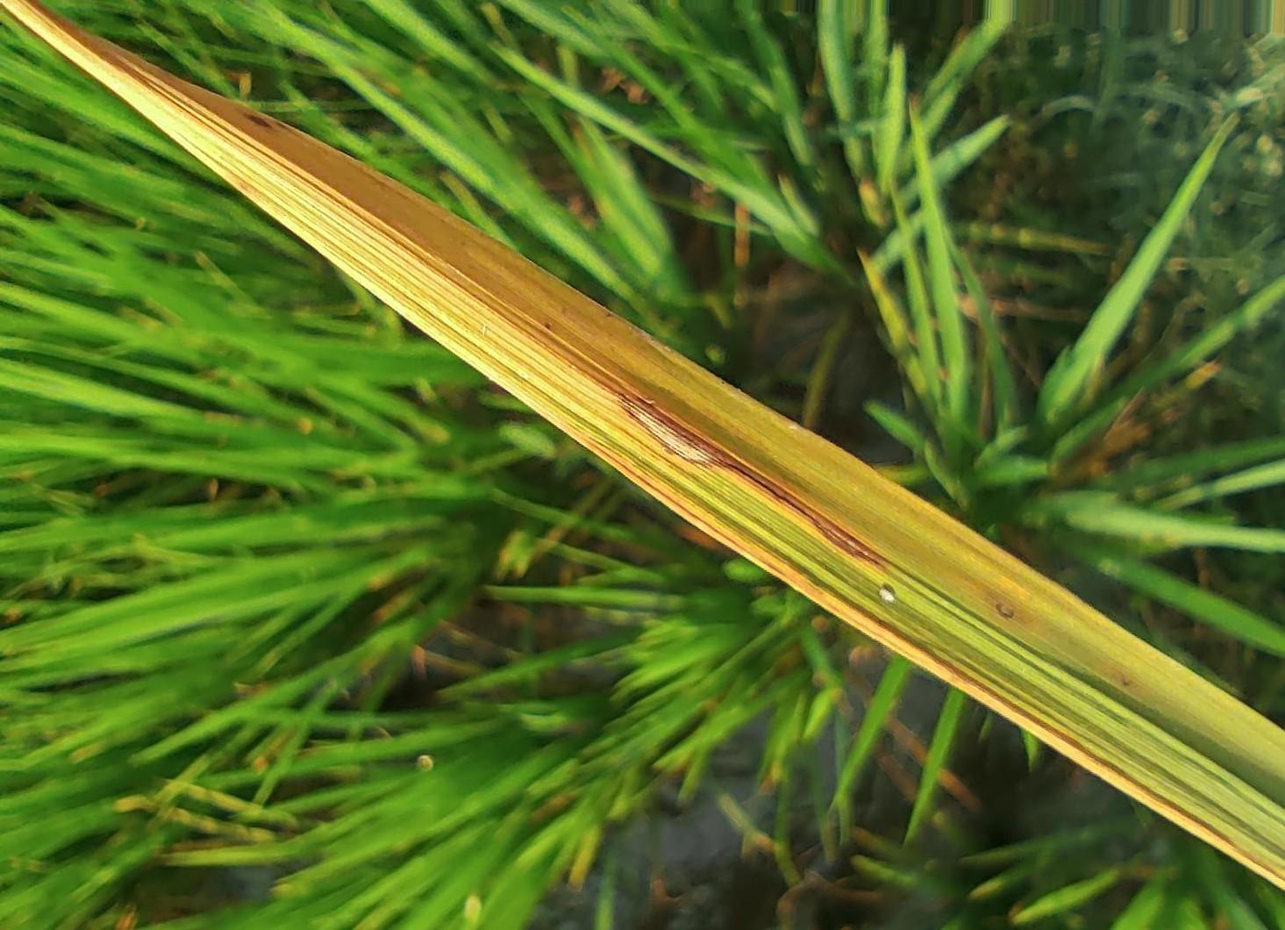LEAF: (0, 0, 1284, 886)
LEAF BLAST: (600, 380, 887, 568)
